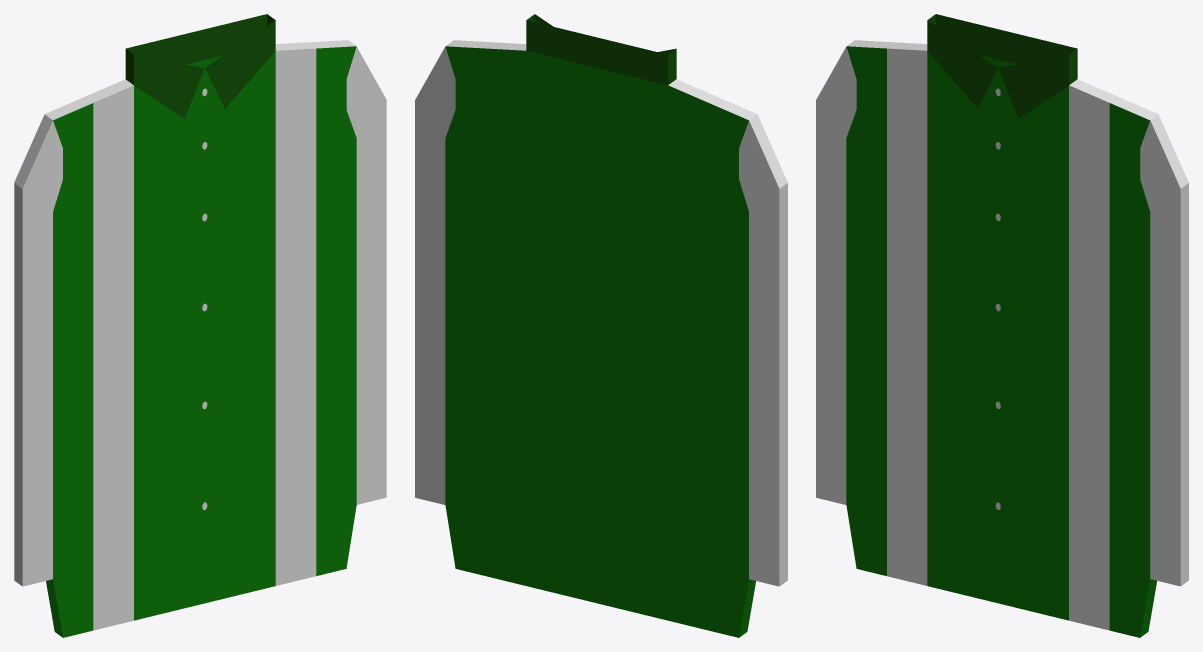
The model's file is shirt-green.dae.
The picture shows the model from 3 angles, left to right: view 1: azimuth 30°, elevation 25°; view 2: azimuth 150°, elevation 25°; view 3: azimuth 330°, elevation 25°; orthographic projection.
Parts seen in each view (by area): view 1: group_1_002, group_1_004, group_1_008, group_1_006, group_1_009, group_1_003, group_1_005, group_1_014; view 2: group_1_002, group_1_004, group_1_007, group_1_006, group_1_015, group_1_008, group_1_005; view 3: group_1_002, group_1_008, group_1_004, group_1_006, group_1_003, group_1_009, group_1_014, group_1_005.
Boxes of the visible parts, bbox=[...] form: group_1_002: bbox=[46, 46, 356, 637]; group_1_004: bbox=[14, 79, 133, 630]; group_1_008: bbox=[275, 40, 386, 585]; group_1_006: bbox=[126, 14, 267, 64]; group_1_009: bbox=[125, 49, 204, 118]; group_1_003: bbox=[205, 14, 275, 108]; group_1_005: bbox=[14, 518, 52, 586]; group_1_014: bbox=[356, 436, 386, 504]; group_1_002: bbox=[445, 46, 755, 637]; group_1_004: bbox=[668, 79, 787, 525]; group_1_007: bbox=[415, 46, 455, 504]; group_1_006: bbox=[526, 20, 667, 85]; group_1_015: bbox=[749, 518, 779, 586]; group_1_008: bbox=[446, 40, 526, 50]; group_1_005: bbox=[779, 519, 787, 586]; group_1_002: bbox=[846, 46, 1156, 637]; group_1_008: bbox=[1069, 79, 1188, 630]; group_1_004: bbox=[816, 40, 927, 585]; group_1_006: bbox=[936, 14, 1077, 64]; group_1_003: bbox=[998, 49, 1077, 118]; group_1_009: bbox=[927, 14, 997, 108]; group_1_014: bbox=[1150, 518, 1188, 586]; group_1_005: bbox=[816, 436, 846, 504].
Bounding box in the file's own units: 0.6333 × 0.0254 × 0.9398.
